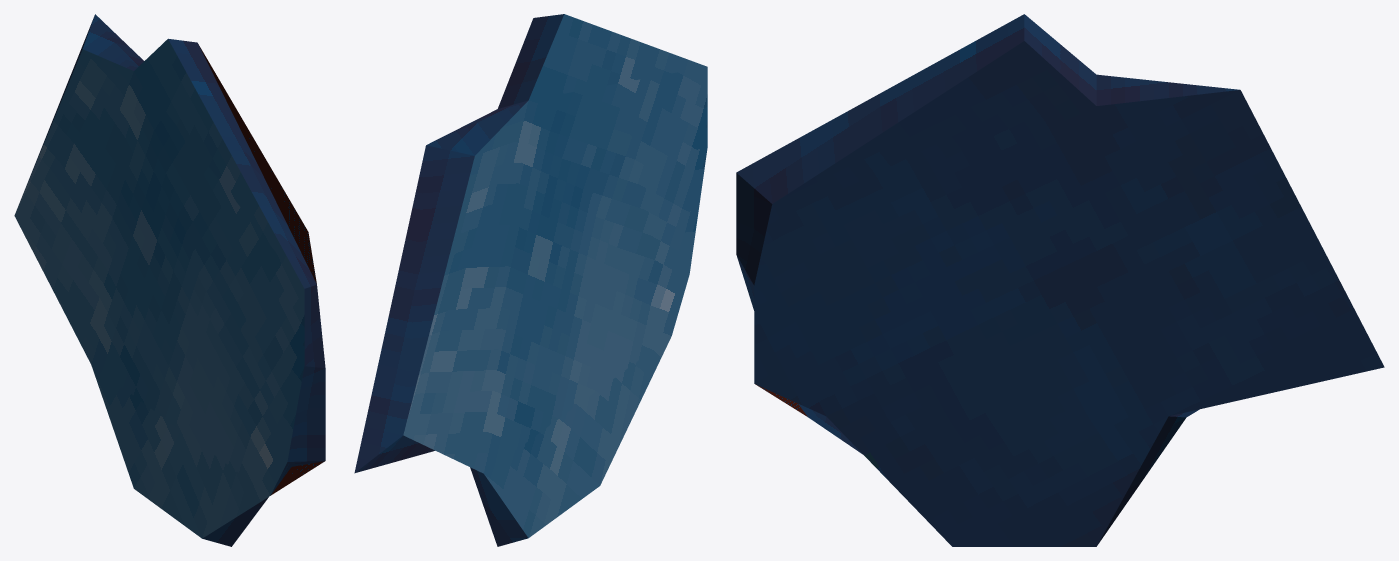
Rendered from sky-shards.fbx.
3 renders of one model, left to right at view 1: azimuth 30°, elevation 25°; view 2: azimuth 150°, elevation 25°; view 3: azimuth 270°, elevation 25°, orthographic. The views are drawn at different scales.
Visible parts, largest first — view 1: sky-shard_01, sky-shard_01.001; view 2: sky-shard_01; view 3: sky-shard_01.
Part boxes in pixels (x1,y1,x2,y2): sky-shard_01: [14, 14, 325, 546]; sky-shard_01.001: [198, 44, 324, 495]; sky-shard_01: [354, 14, 707, 546]; sky-shard_01: [736, 14, 1384, 546].
Bounding box in the file's own units: 0.7812 × 12.39 × 14.06.
1 material, 1 textured.
